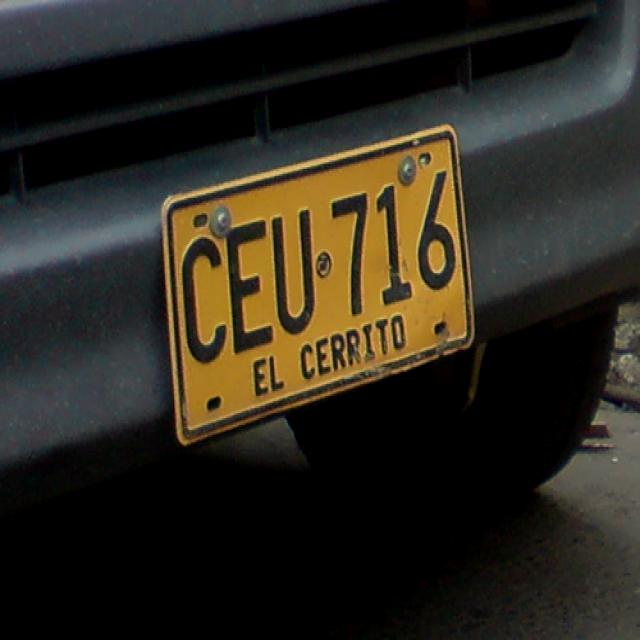placa: (158, 119, 478, 448)
